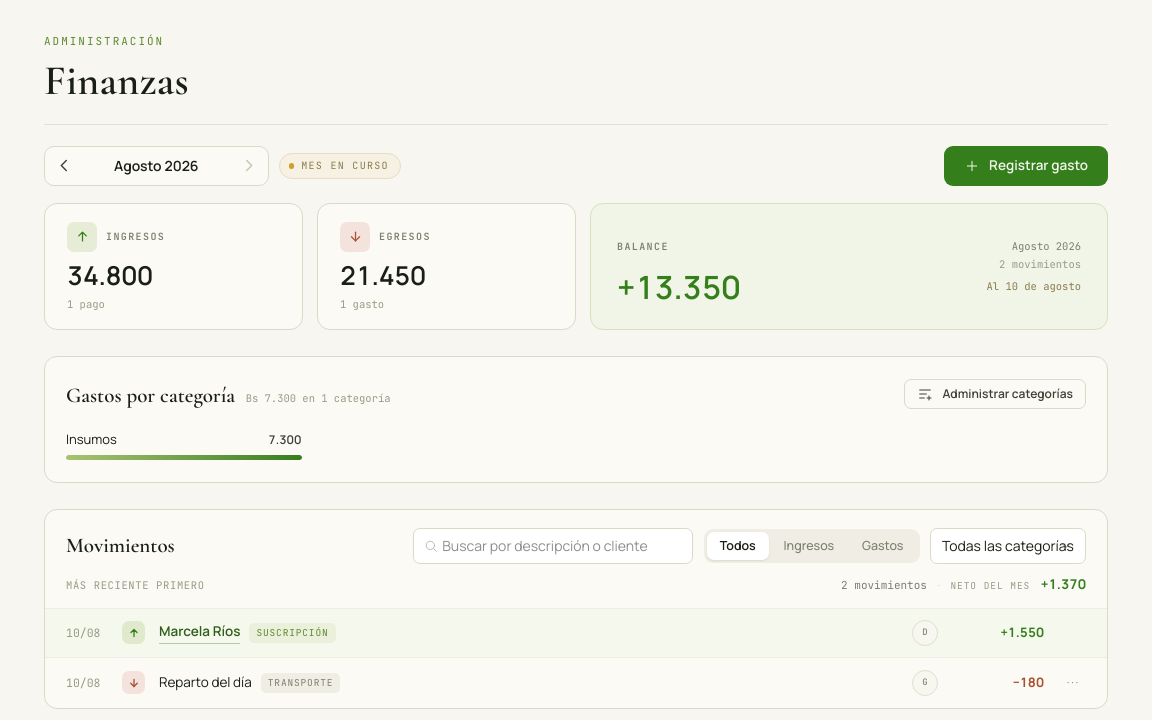
FinancePage › manages the categories from the breakdown header
The width and height of the screenshot is (1152, 720).
Step 1. Click the button "Administrar categorías" → (995, 394), box [904, 379, 1086, 409]
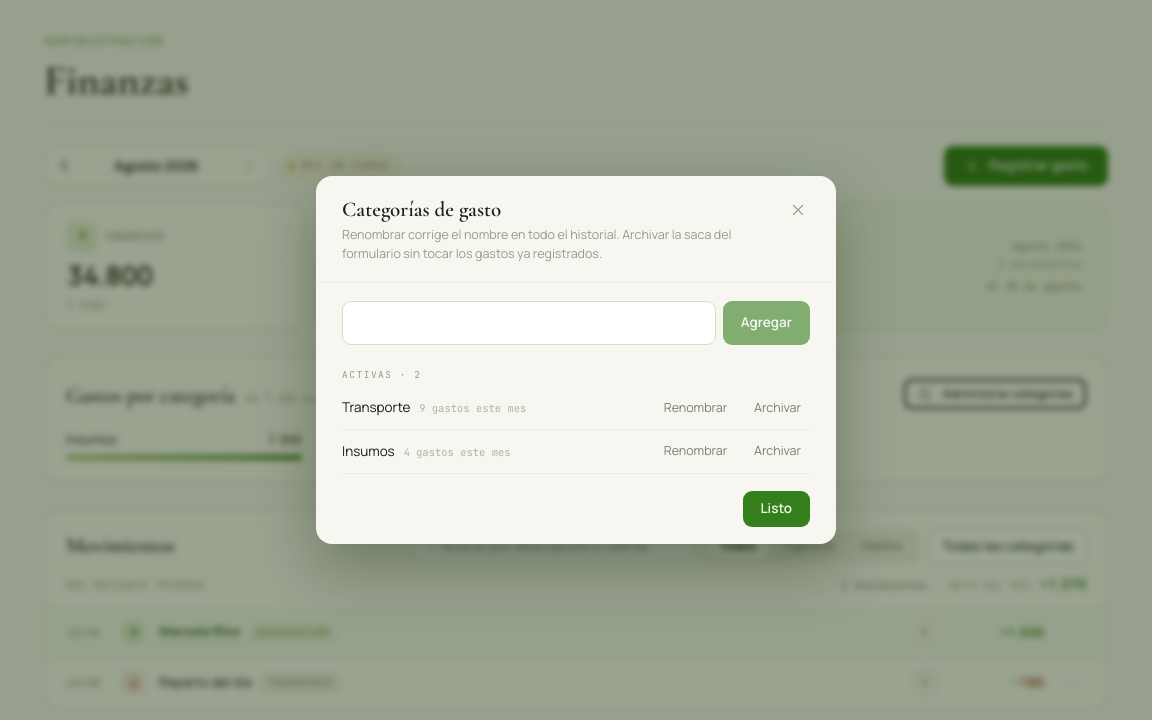
Check: the heading "Categorías de gasto" is shown, box [342, 197, 501, 222]
